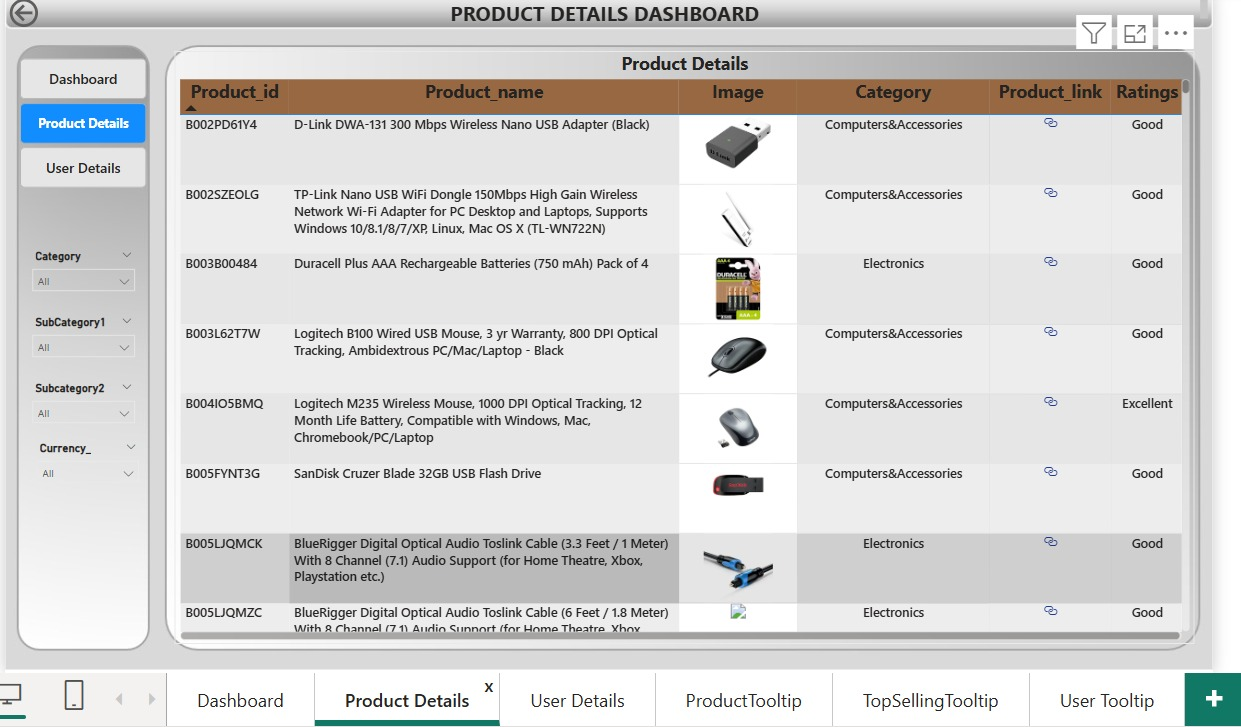

The page's visual inventory and layout, read from the dashboard file:
{"tool":"powerbi","page":{"name":"Product Details","canvas":[1280,720],"ordinal":1},"visuals":[{"type":"tableEx","title":"Product  Details","fields":{"Values":["amazon.product_id","amazon.product_name","amazon.img_link","amazon.Category","amazon.product_link","amazon.Ratings"]},"box":[179,59.7,1081.7,629.4],"z":0},{"type":"slicer","fields":{"Values":["amazon.Category"]},"box":[19.2,265.4,128.4,64.2],"z":1000},{"type":"slicer","fields":{"Values":["amazon.SubCategory1"]},"box":[19.2,336.3,128.4,64.2],"z":2000},{"type":"slicer","fields":{"Values":["amazon.SubCategory2"]},"box":[19.2,405.3,128.4,64.2],"z":3000},{"type":"slicer","fields":{"Values":["Conversion.Currency_"]},"box":[23.1,469.7,128,63.5],"z":4000},{"type":"pageNavigator","box":[15.8,67.6,134.3,137.9],"z":5000},{"type":"textbox","box":[0,0,1280,34.6],"z":6000},{"type":"actionButton","box":[0,0,100,40],"z":7000}]}

Visuals, with their boxes on the page's 1280x720 design canvas (x1, y1, x2, y2). These are canvas units, not pixel positions in the 1241x727 screenshot, which may show the page scaled, cropped or inside an application window:
"Product  Details" tableEx: <region>179, 60, 1261, 689</region>
slicer - amazon.Category: <region>19, 265, 148, 330</region>
slicer - amazon.SubCategory1: <region>19, 336, 148, 400</region>
slicer - amazon.SubCategory2: <region>19, 405, 148, 470</region>
slicer - Conversion.Currency_: <region>23, 470, 151, 533</region>
pageNavigator: <region>16, 68, 150, 206</region>
textbox: <region>0, 0, 1280, 35</region>
actionButton: <region>0, 0, 100, 40</region>
